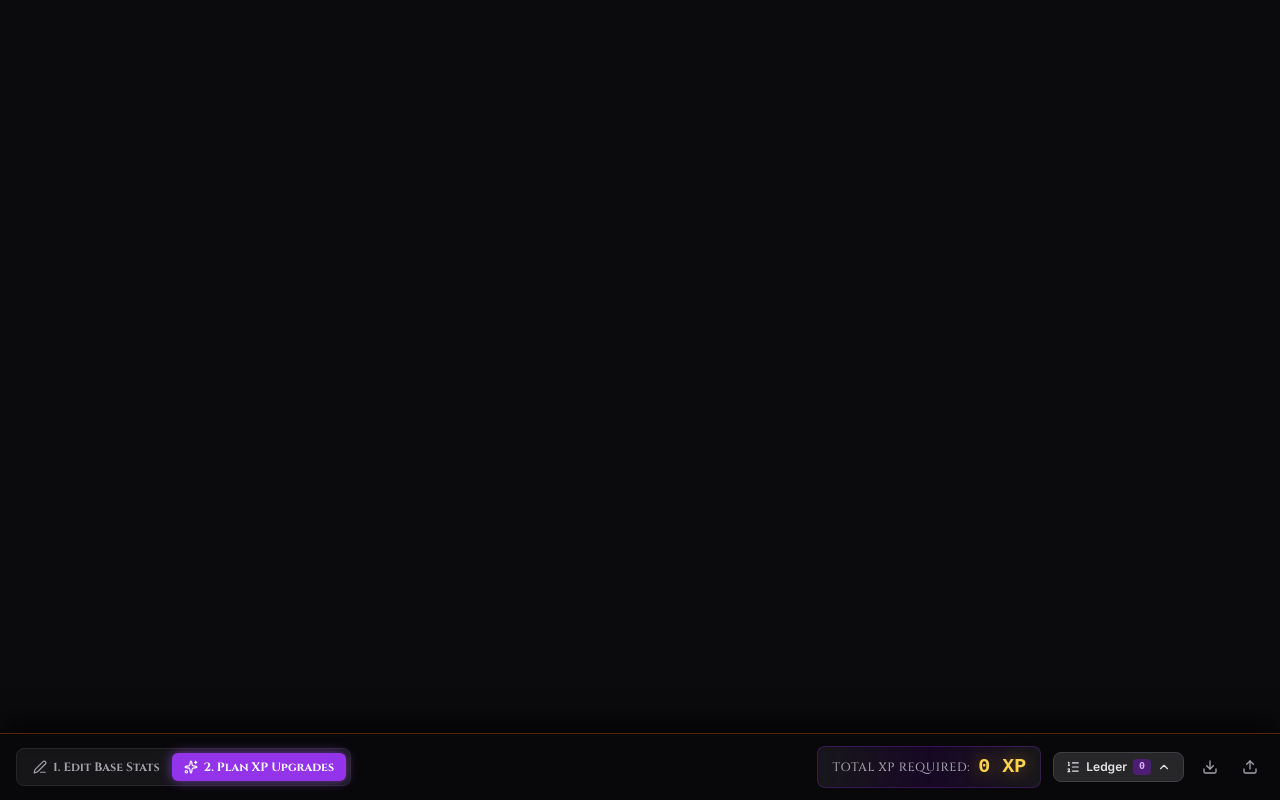
it: XPSummaryBar Component › shows empty state message in ledger when no upgrades are planned
Click the button titled "View step-by-step upgrade breakdown ledger": (1119, 767) [1053,752,1184,782]
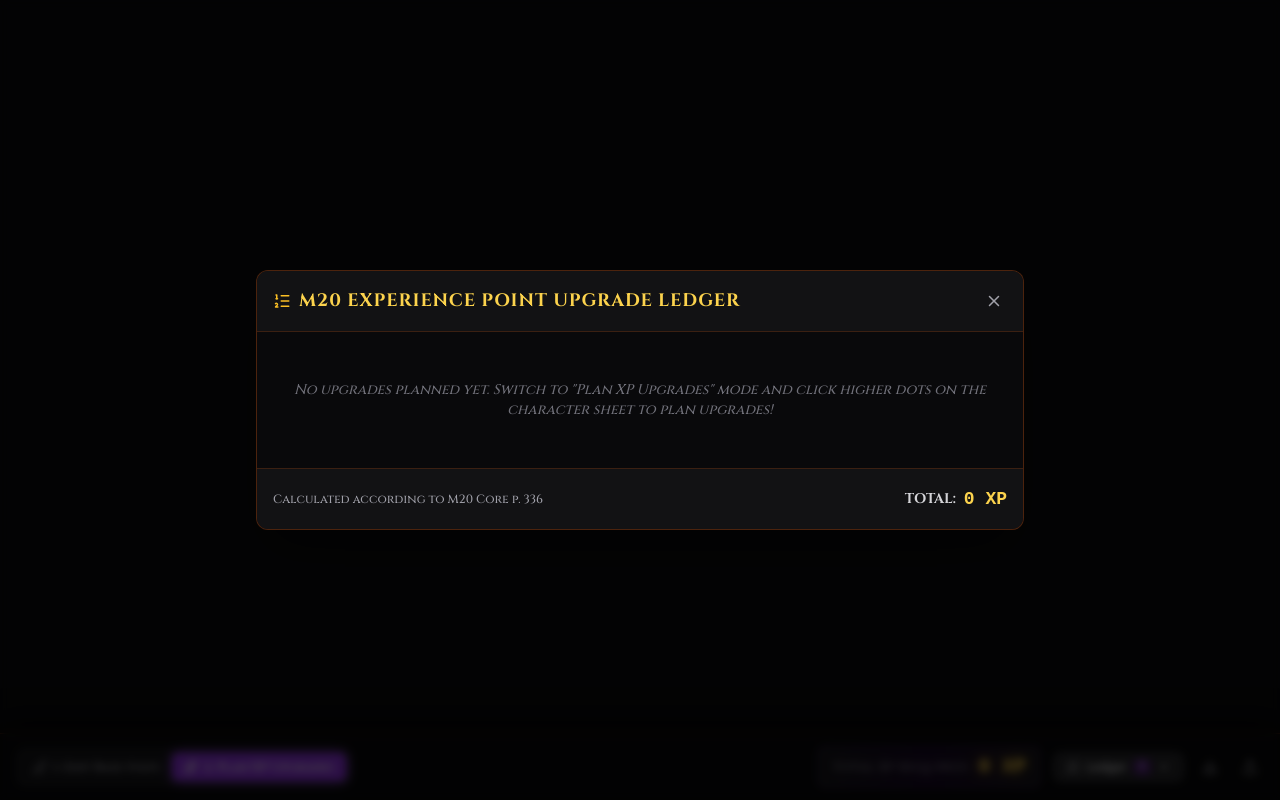
Result: the text "No upgrades planned yet" is shown at [294,380,986,419]
